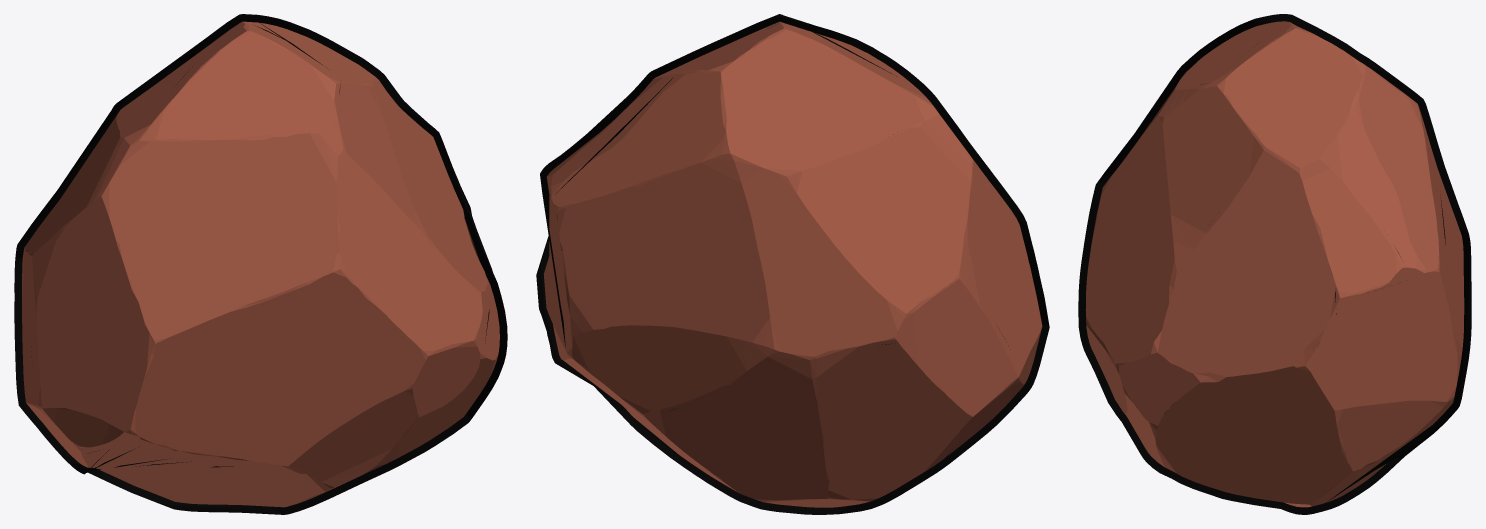
The model's file is rock_medium.glb.
The picture shows the model from 3 angles, left to right: view 1: azimuth 30°, elevation 25°; view 2: azimuth 150°, elevation 25°; view 3: azimuth 270°, elevation 25°; orthographic projection.
Parts seen in each view (by area): view 1: rock_medium; view 2: rock_medium; view 3: rock_medium.
Boxes of the visible parts, <box> form: rock_medium: <box>14,14,507,514</box>; rock_medium: <box>536,14,1049,514</box>; rock_medium: <box>1078,14,1471,514</box>.
Size of the model in its own units: 6.18 by 6.18 by 4.68.
